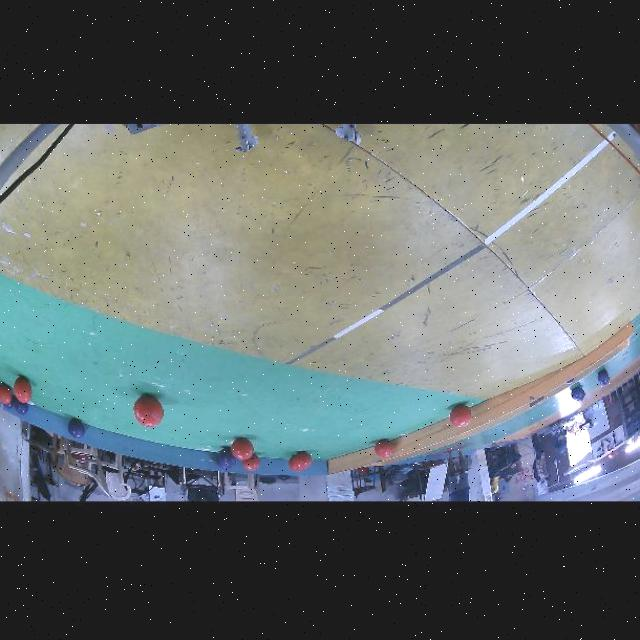P: (218, 446, 238, 467), (67, 419, 86, 438), (13, 398, 28, 415), (217, 458, 231, 470), (597, 369, 609, 383), (571, 387, 583, 400), (4, 397, 13, 408), (577, 390, 585, 402)
R: (134, 395, 163, 427), (231, 437, 253, 461), (450, 404, 471, 428), (13, 377, 32, 403), (293, 451, 311, 470), (374, 440, 392, 457), (242, 454, 260, 471), (0, 383, 12, 404), (289, 456, 302, 472)
